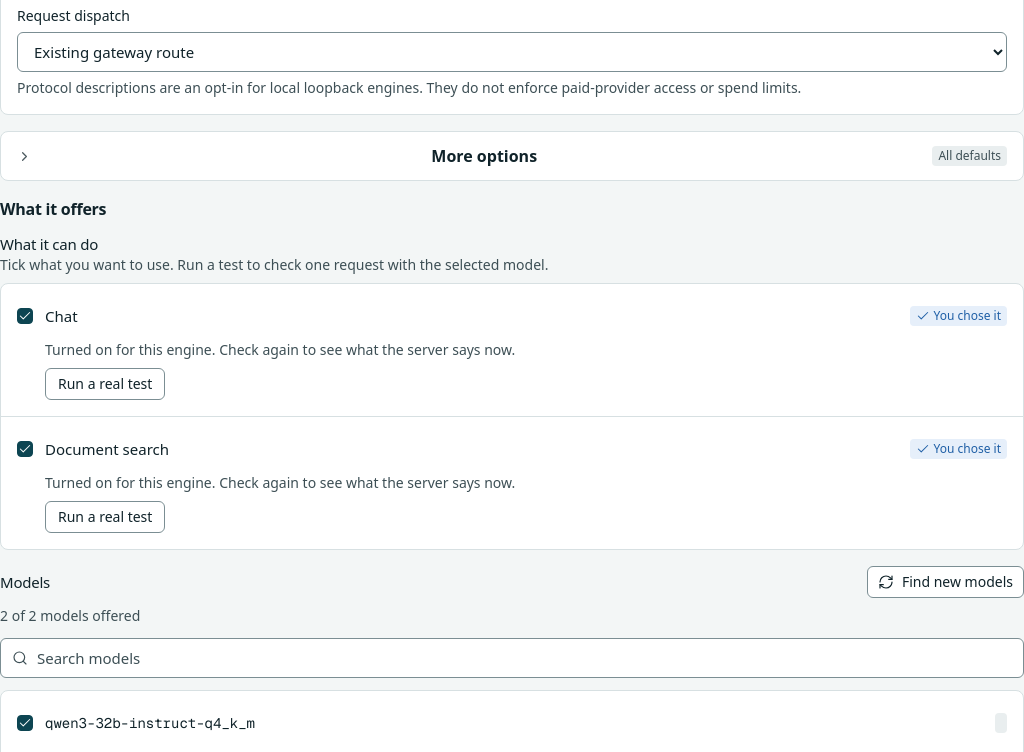
Test: i: the engine record page › runs a record-page test with the saved settings and stores a pass
(page scrolled)
Click the button with aria-label "Run a real test for Chat".
click(105, 384)  # box x1=45 y1=368 x2=165 y2=400
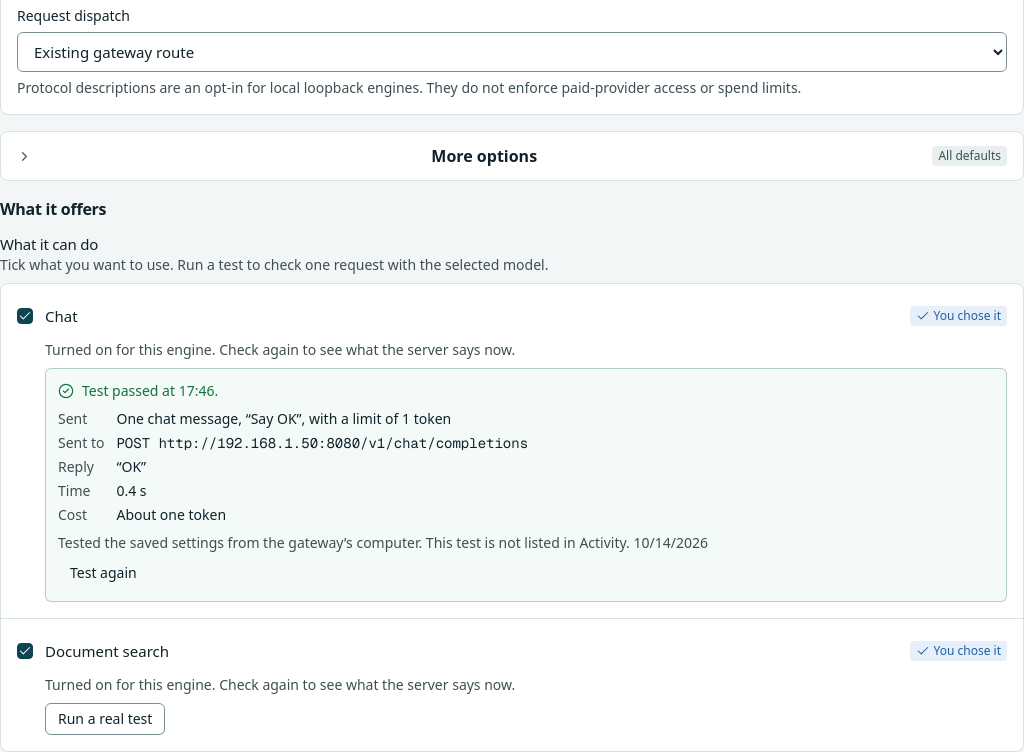
Result: the text "Tested the saved settings from the gateway’s computer. This test is not listed in Activity." is shown at x1=58 y1=533 x2=630 y2=552
